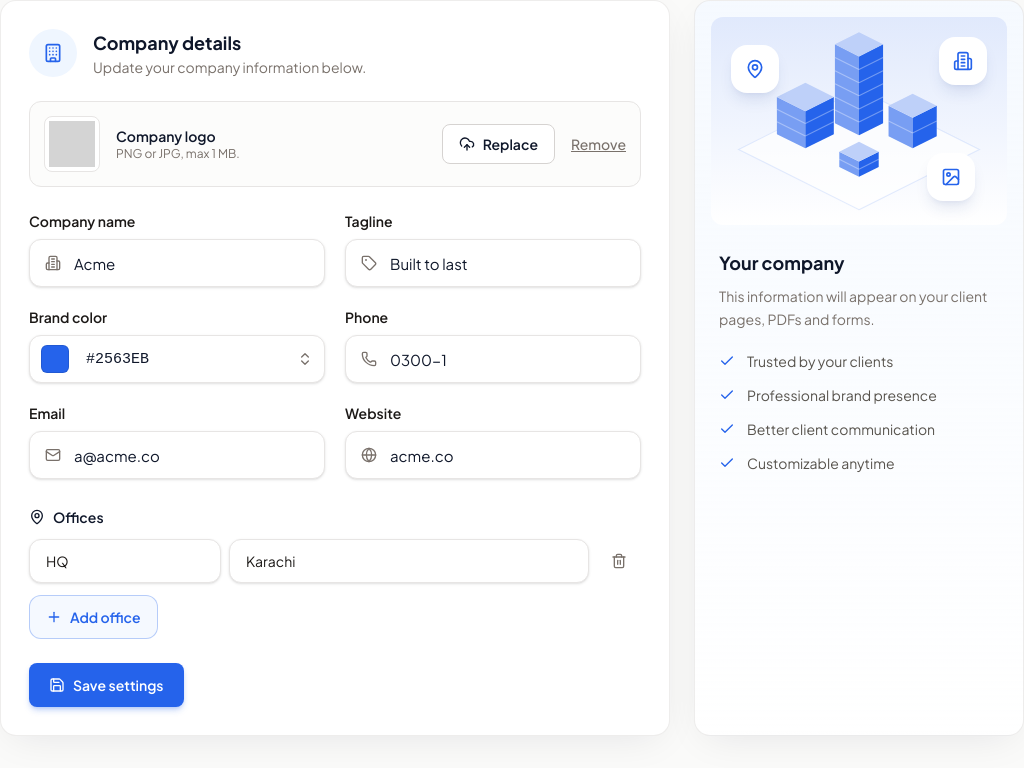
Test: OrgSettingsForm › removes the logo
This screenshot has width=1024, height=768.
Click the button "Remove": (598, 144) [571,134,626,154]
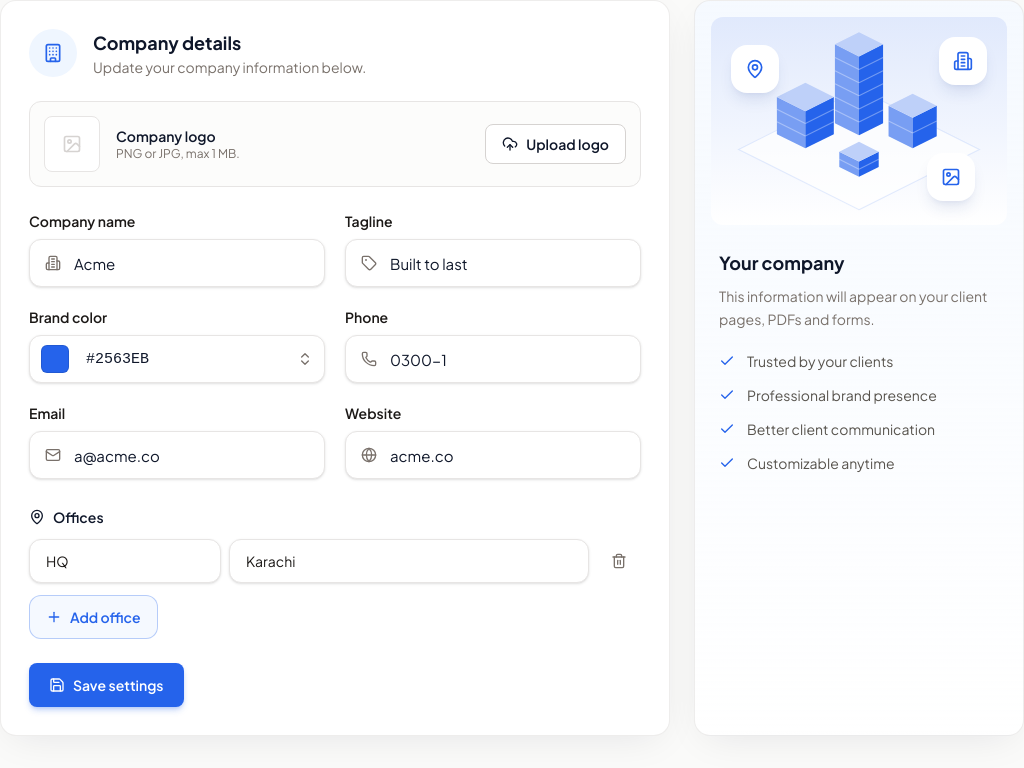
expect the picture with alt text "Logo" is gone: met
